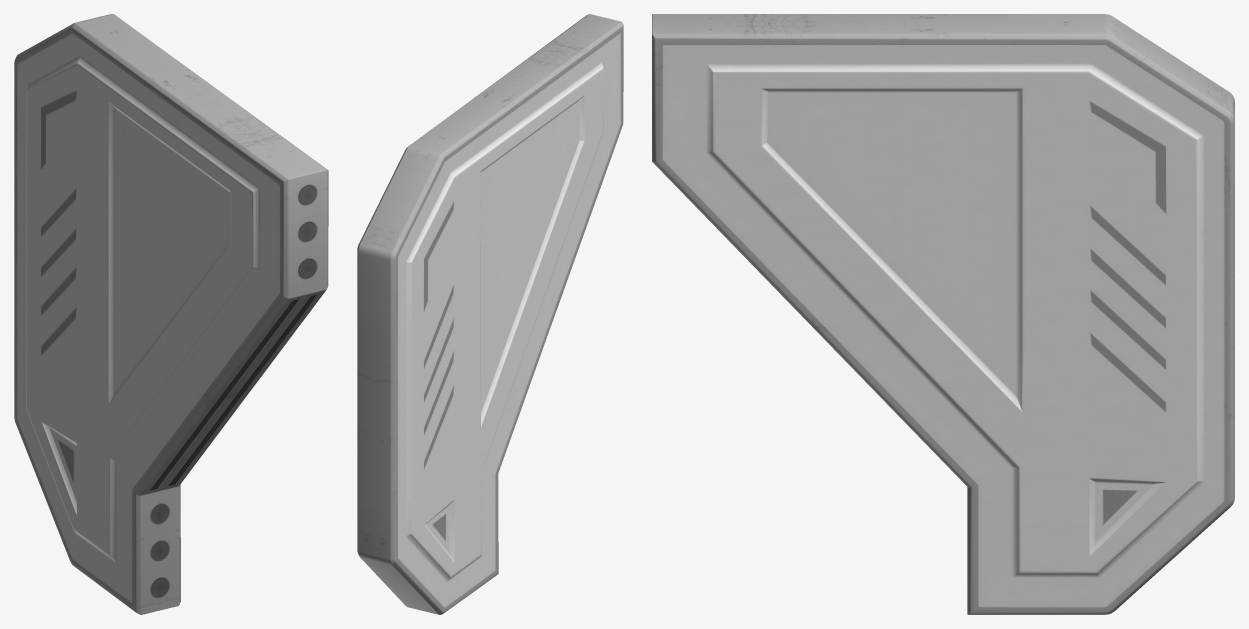
File: SM_MGate01-500x350-1_GateR.FBX
3 renders of one model, left to right at view 1: azimuth 30°, elevation 25°; view 2: azimuth 150°, elevation 25°; view 3: azimuth 270°, elevation 25°, orthographic. The views are drawn at different scales.
Parts seen in each view (by area): view 1: SM_MGate01-500x350-1_GateR; view 2: SM_MGate01-500x350-1_GateR; view 3: SM_MGate01-500x350-1_GateR.
Boxes of the visible parts, <box> form: SM_MGate01-500x350-1_GateR: <box>14,14,328,614</box>; SM_MGate01-500x350-1_GateR: <box>357,14,623,614</box>; SM_MGate01-500x350-1_GateR: <box>652,14,1234,614</box>.
Size of what is drawn, in the model's own units: 30.71 by 280 by 308.
